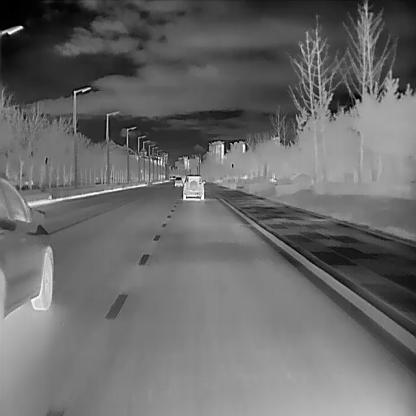car: (0, 170, 54, 327), (182, 174, 205, 201), (174, 176, 182, 186)
